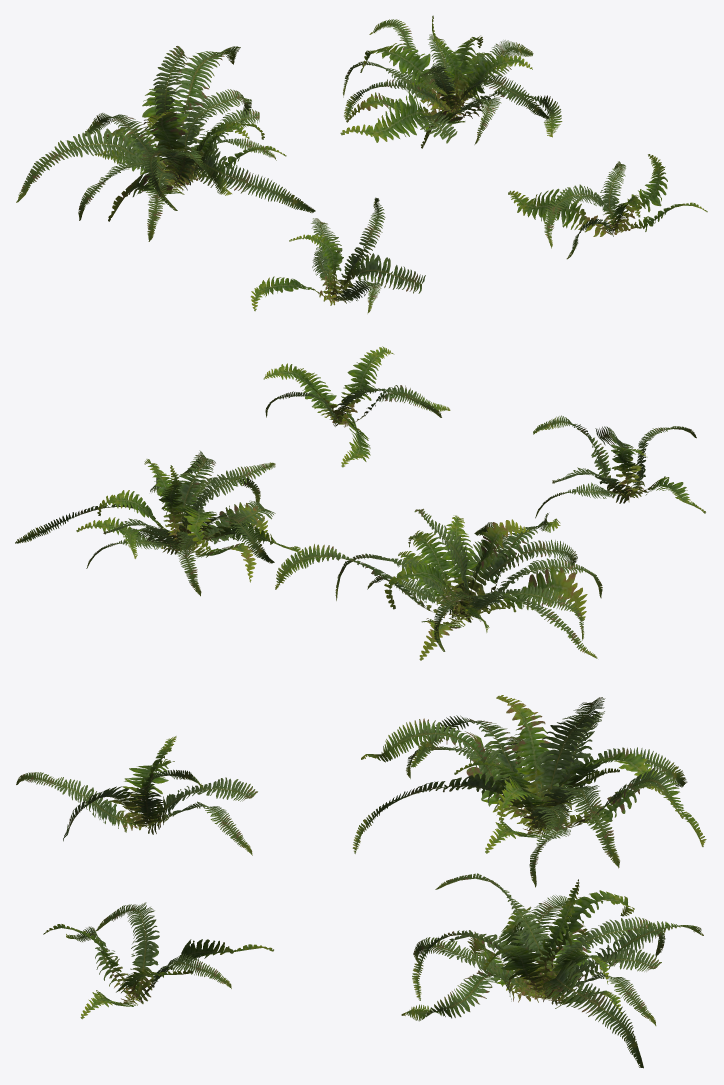
File: fern_02_1k.gltf
3 views of the same model, one above another, from view 1: azimuth 30°, elevation 25°; view 2: azimuth 150°, elevation 25°; view 3: azimuth 270°, elevation 25° (orthographic). The views are drawn at different scales.
Parts seen in each view (by area): view 1: fern_02_b, fern_02_c, fern_02_a, fern_02_d; view 2: fern_02_b, fern_02_c, fern_02_d, fern_02_a; view 3: fern_02_b, fern_02_c, fern_02_a, fern_02_d.
Boxes of the visible parts, left/top/right/bottom form: fern_02_b: left=16, top=46, right=315, bottom=241; fern_02_c: left=340, top=15, right=562, bottom=148; fern_02_a: left=250, top=197, right=425, bottom=313; fern_02_d: left=508, top=154, right=707, bottom=259; fern_02_b: left=275, top=508, right=602, bottom=660; fern_02_c: left=15, top=450, right=302, bottom=596; fern_02_d: left=263, top=346, right=450, bottom=467; fern_02_a: left=533, top=415, right=705, bottom=518; fern_02_b: left=352, top=695, right=706, bottom=887; fern_02_c: left=401, top=873, right=703, bottom=1068; fern_02_a: left=16, top=736, right=257, bottom=855; fern_02_d: left=43, top=902, right=273, bottom=1019.
Size of the model in its own units: 1.97 by 0.4277 by 1.72.
Materials: 1 (1 with a texture image).
